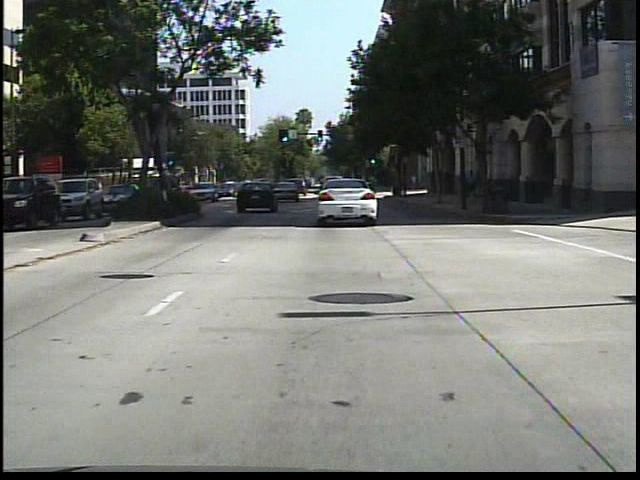person: (466, 164, 484, 207)
